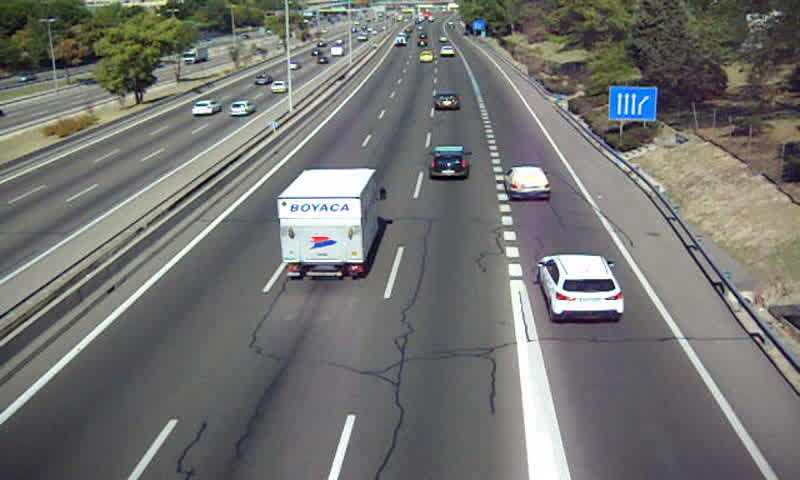car: (536, 254, 624, 323), (506, 166, 551, 199), (428, 144, 470, 179), (431, 92, 460, 112), (440, 45, 456, 57), (418, 50, 434, 61)
small-truck: (278, 168, 381, 278)
